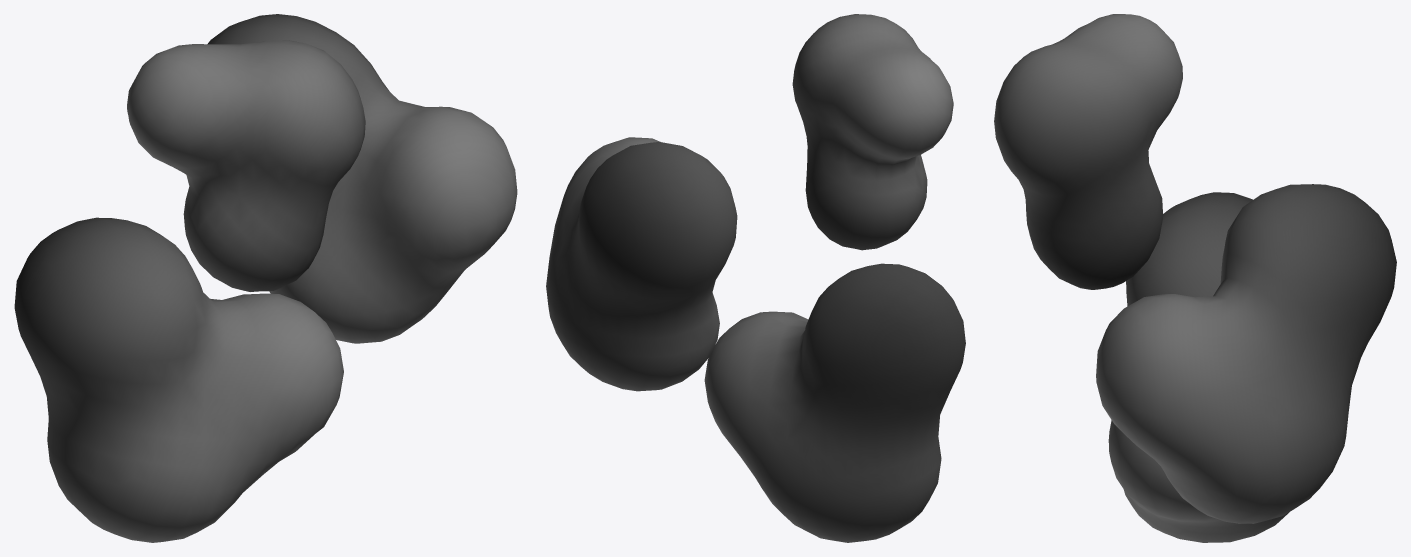
The model's file is 10_Asap.fbx.
3 renders of one model, left to right at view 1: azimuth 30°, elevation 25°; view 2: azimuth 150°, elevation 25°; view 3: azimuth 270°, elevation 25°, orthographic. The views are drawn at different scales.
Parts seen in each view (by area): view 1: Asap; view 2: Asap; view 3: Asap.
Part boxes in pixels (bbox=[...]): Asap: bbox=[14, 14, 517, 542]; Asap: bbox=[546, 14, 965, 542]; Asap: bbox=[994, 14, 1396, 542].
Size of the model in its own units: 400 by 430 by 306.
